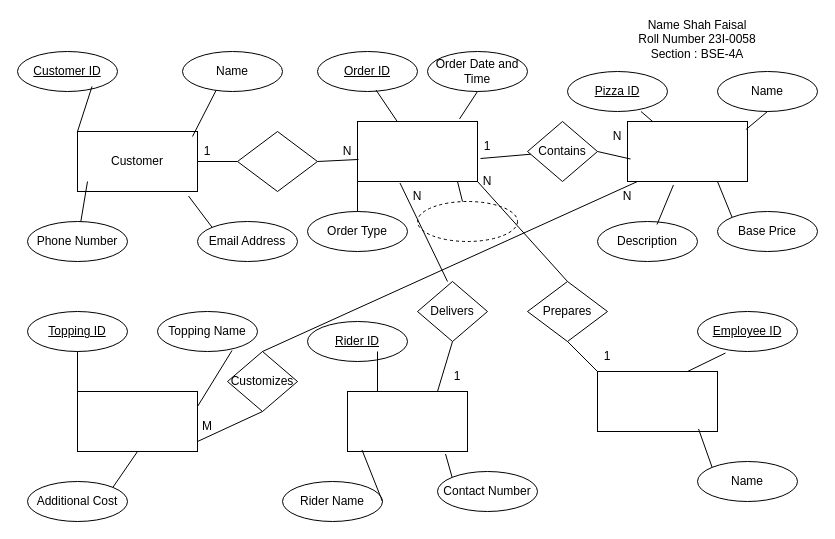
Image size: 835x539. Some labels were removed from this diagram. The shapes that lost their labels are listed below. From the top down, each one's centre as x and y in pixels, then its label:
At pixel 277 161: "Places".
At pixel 417 151: "Order".
At pixel 687 151: "Pizza".
At pixel 467 221: "Total Amount".
At pixel 137 421: "Topping".
At pixel 407 421: "Rider".
At pixel 657 401: "Chef".
